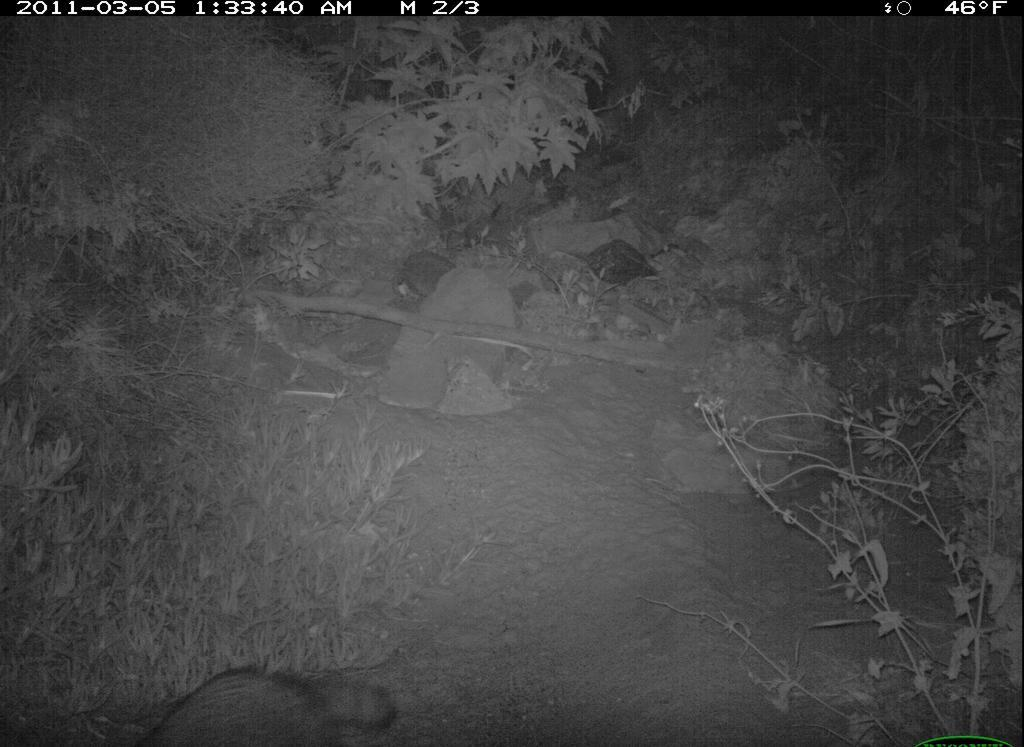raccoon: (130, 653, 418, 744)
